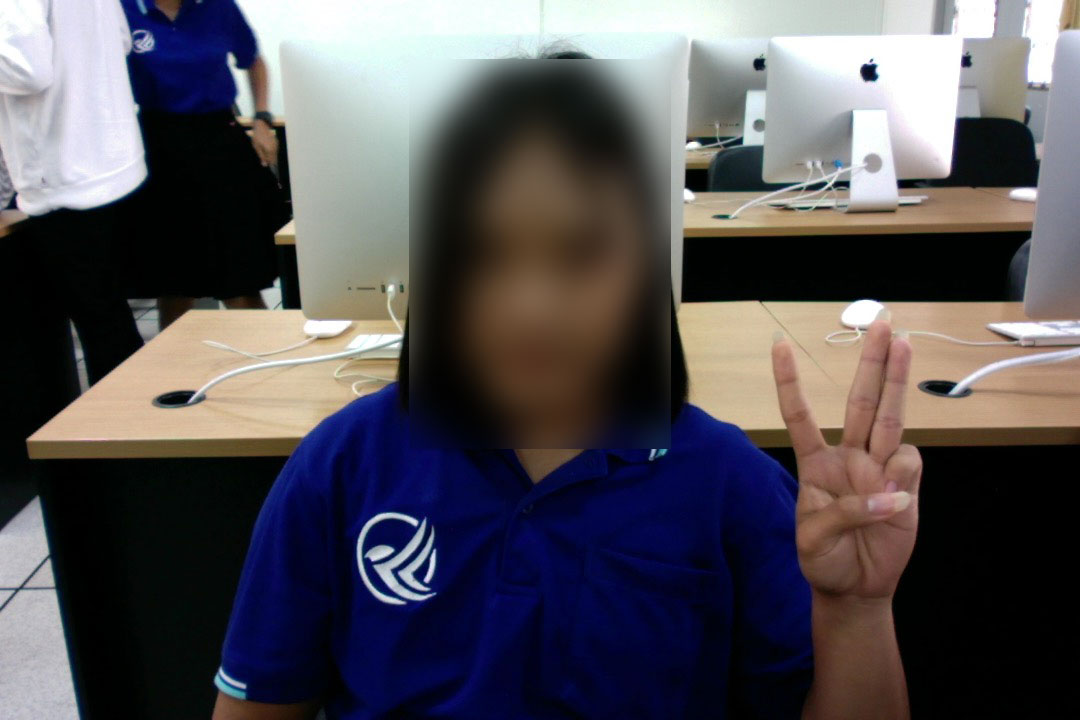wor: (762, 310, 934, 601)
